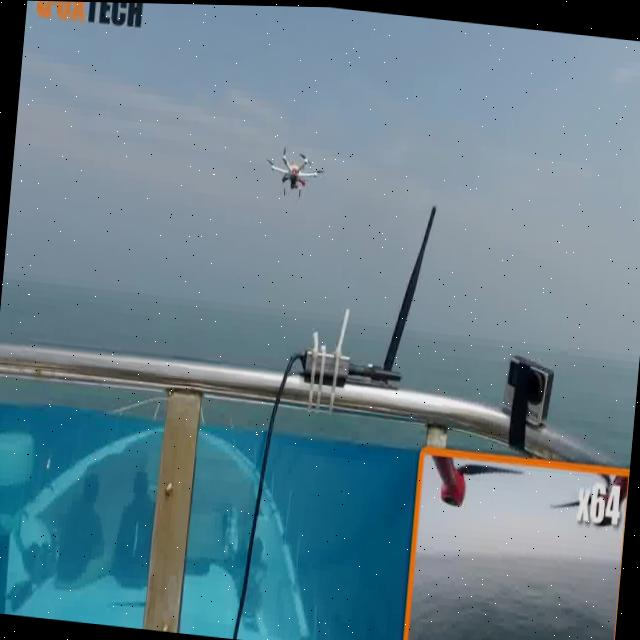drone: (256, 135, 328, 211)
